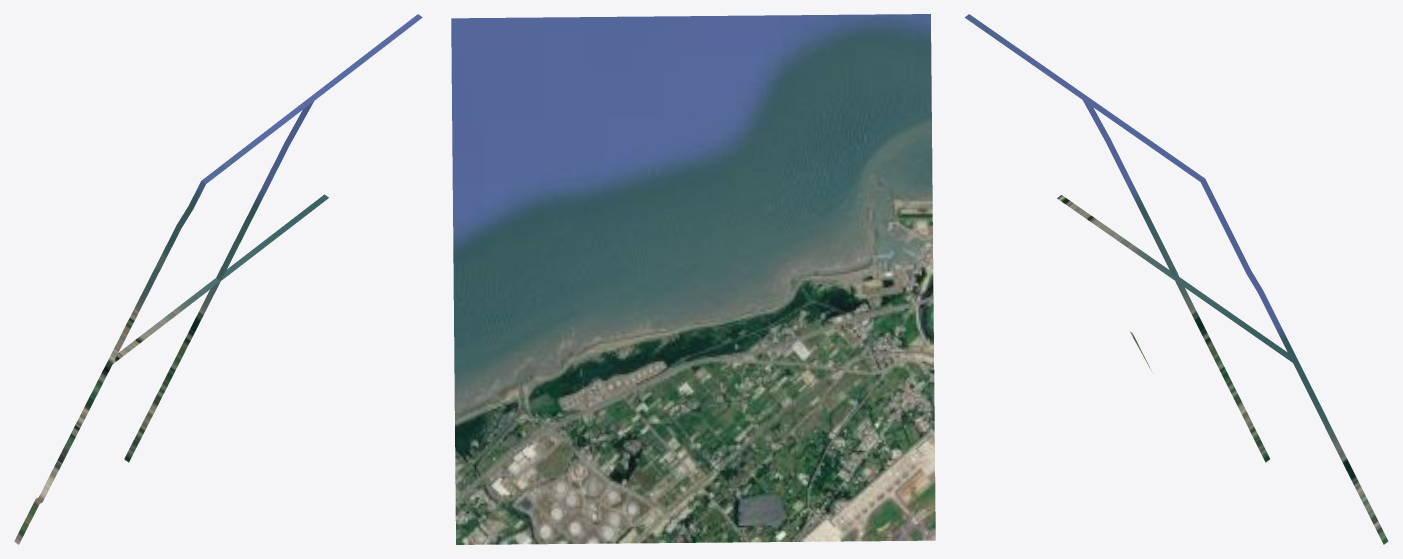
3 renders of one model, left to right at view 1: azimuth 30°, elevation 25°; view 2: azimuth 150°, elevation 25°; view 3: azimuth 270°, elevation 25°, orthographic. The views are drawn at different scales.
Bounding box in the file's own units: 4917 × 4432 × 4133.
1 material, 1 textured.
